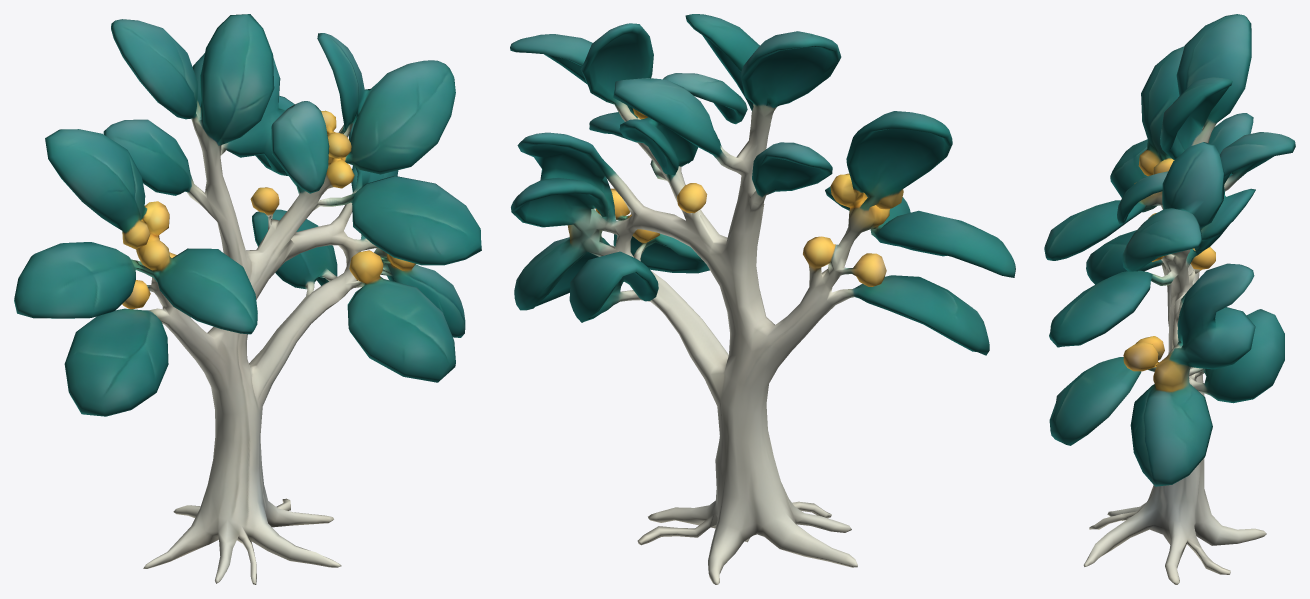
Rendered from berry_bush.glb.
The picture shows the model from 3 angles, left to right: view 1: azimuth 30°, elevation 25°; view 2: azimuth 150°, elevation 25°; view 3: azimuth 270°, elevation 25°; orthographic projection. The views are drawn at different scales.
Parts seen in each view (by area): view 1: model; view 2: model; view 3: model.
Part boxes in pixels (left/top/right/bottom): model: left=14, top=14, right=481, bottom=584; model: left=510, top=14, right=1015, bottom=584; model: left=1044, top=14, right=1295, bottom=584.
Bounding box in the file's own units: 1.74 × 1.9 × 0.8863.
Materials: 1 (1 with a texture image).
